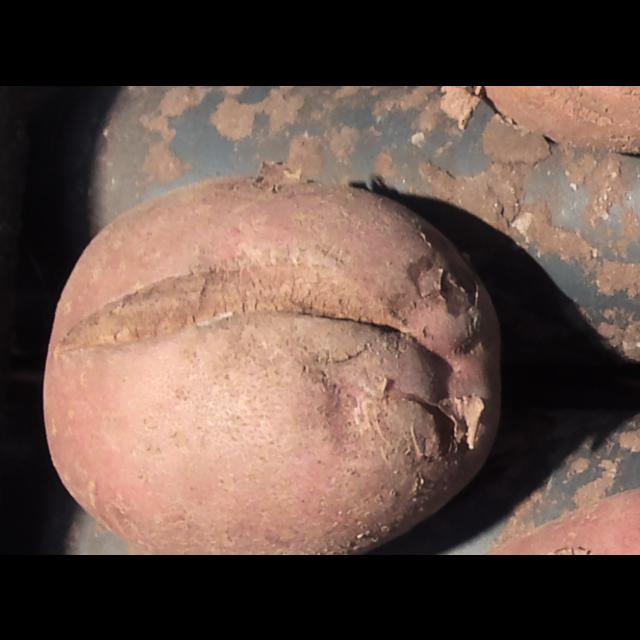Diseased-fungal potato: (26, 160, 524, 554)
